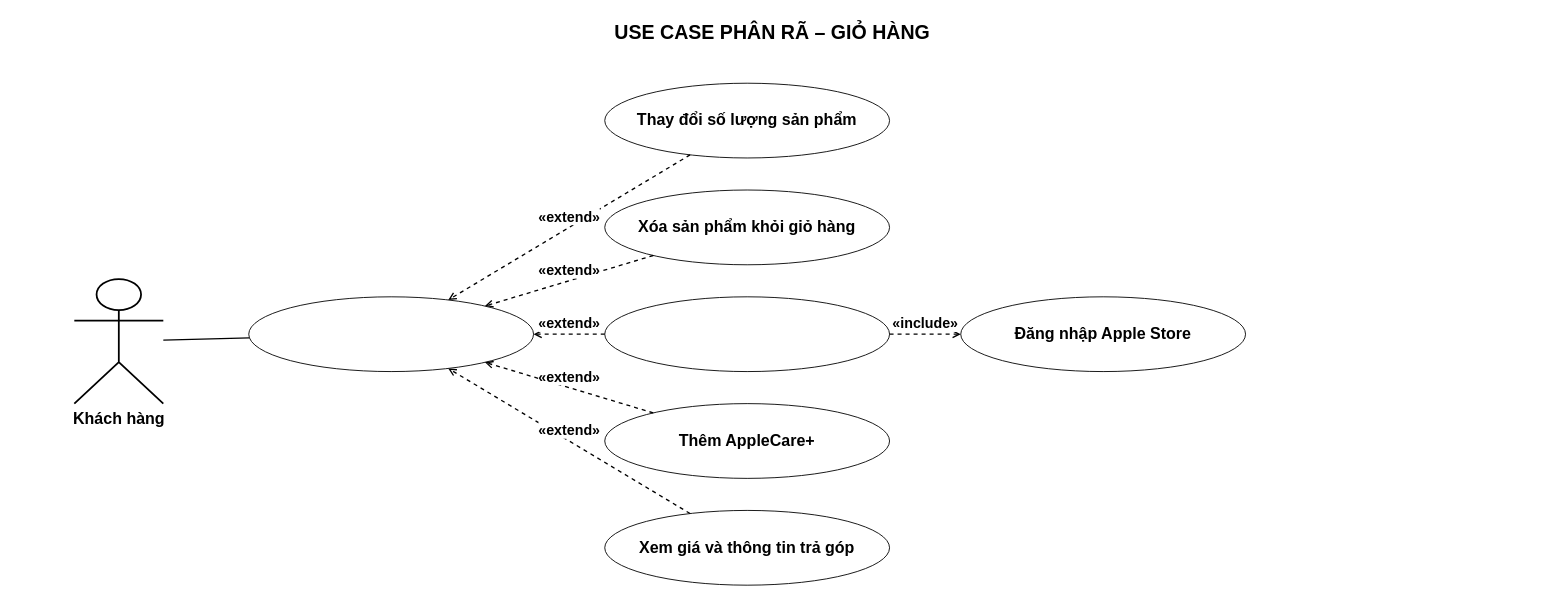
Some shapes in this 1543 by 601 pixel diagram are drawn without their labels. Each missing label, with the centre of its shape:
"Lưu để xem lại sau" belongs at (747,334).
"Xem giỏ hàng" belongs at (391,334).
